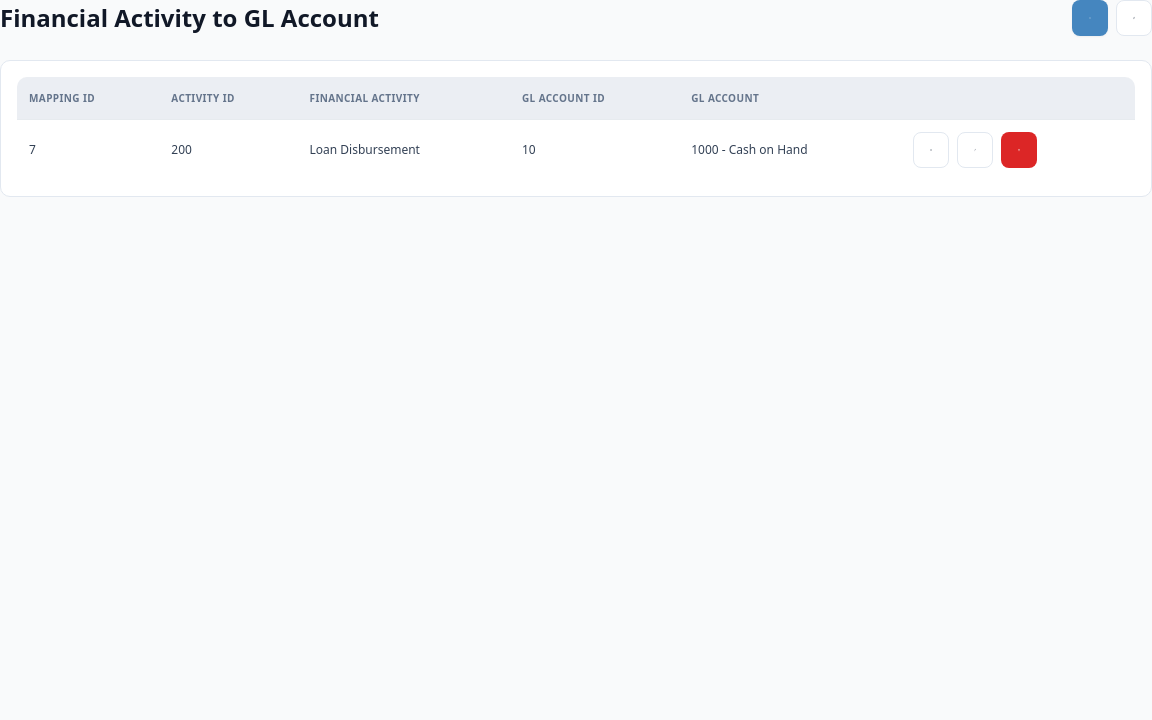
Test: Financial activity mapping behavior › expands a mapping row for view and opens edit in a modal
The image size is (1152, 720).
Expected: the text "Loan Disbursement" is shown, [298,119,510,180]
Click the button named "view" at (931, 150), box [913,132,949,168]
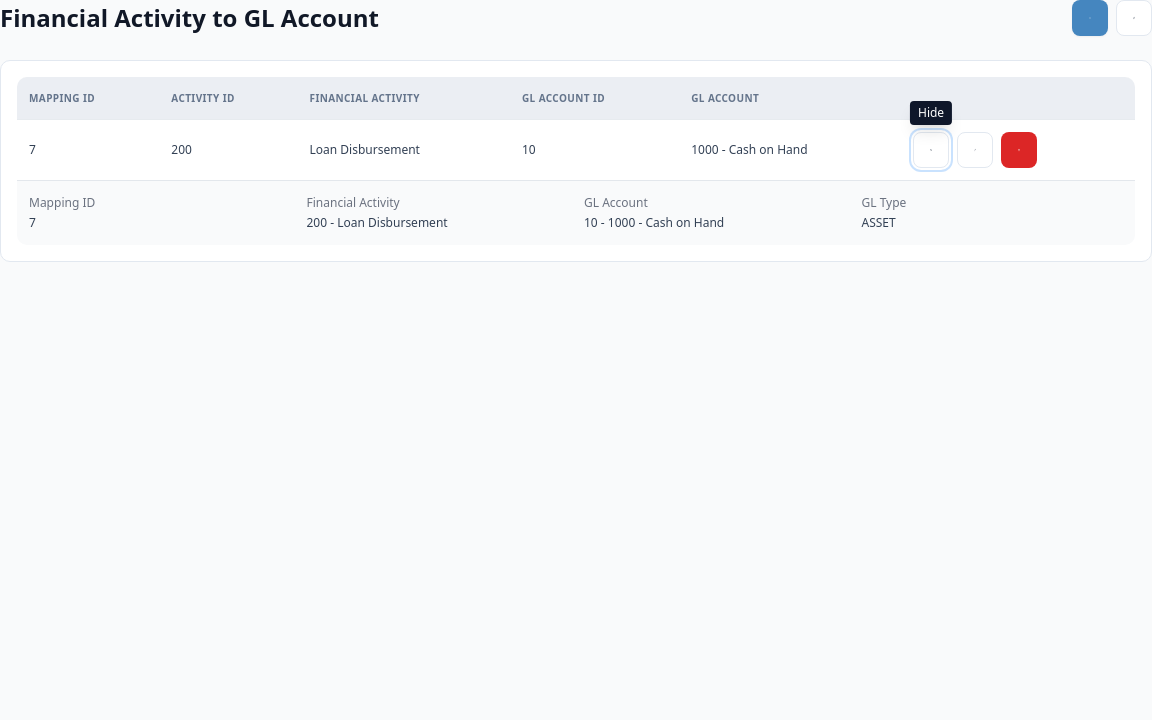
Expected: the text "GL Type" is shown, [862,194,906,211]
Expected: the text "ASSET" is shown, [862,214,896,231]
Click the button named "edit" at (975, 150), box [957,132,993,168]
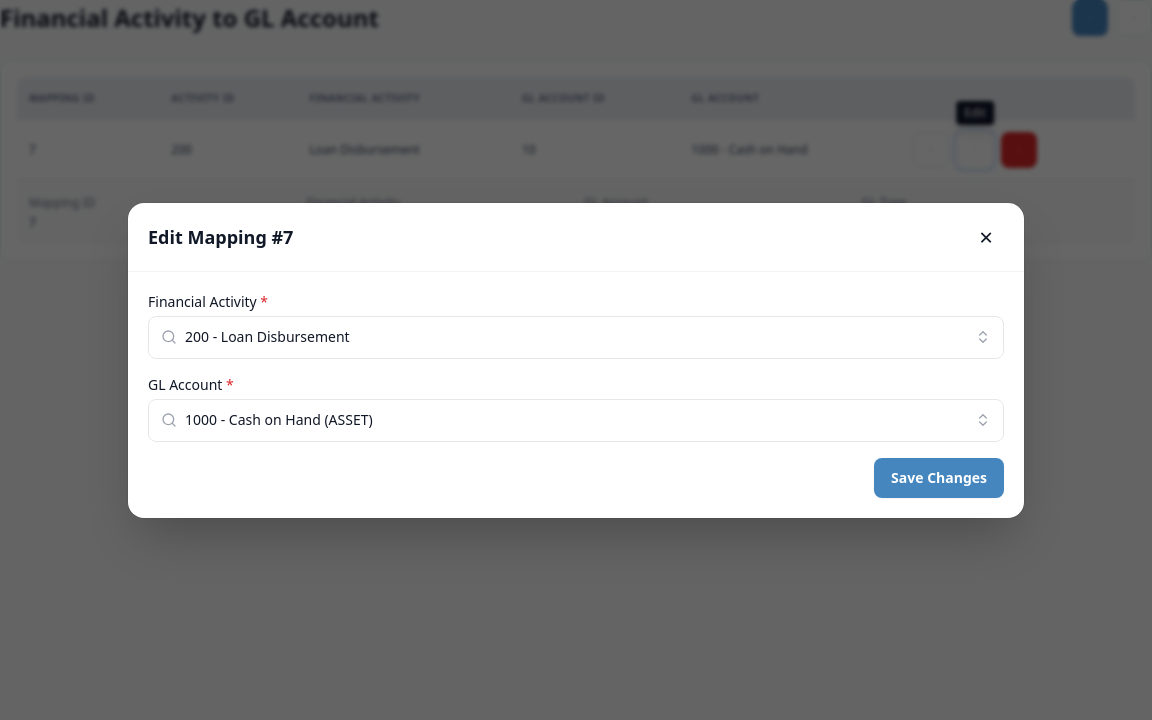
Expected: the dropdown labelled "Financial Activity *" holds "200 - Loan Disbursement", [185,327,967,347]
Expected: the dropdown labelled "GL Account *" holds "1000 - Cash on Hand (ASSET)", [185,410,967,430]
